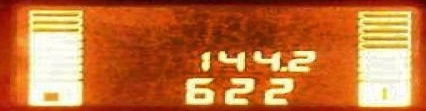-: (278, 65, 286, 71)
1: (196, 51, 211, 72)
2: (221, 76, 255, 104), (261, 76, 293, 105), (286, 49, 316, 71)
4: (215, 49, 245, 71), (251, 49, 280, 71)
6: (181, 76, 215, 105)
